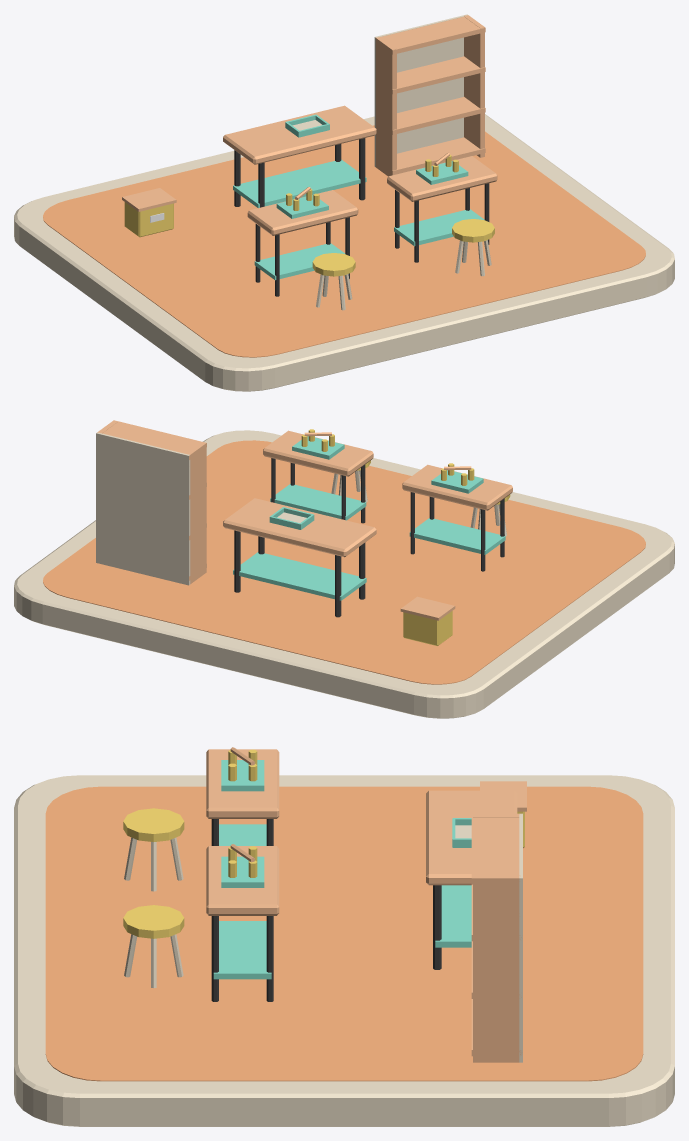
The picture shows the model from 3 angles, top to bottom: view 1: azimuth 30°, elevation 25°; view 2: azimuth 150°, elevation 25°; view 3: azimuth 270°, elevation 25°; orthographic projection. The views are drawn at different scales.
Visible parts, largest first — view 1: COM-02 Floor Surface, COM-01 Rounded Base Direct, Back, Worktop.002, Lower shelf.002, Side, Worktop, Worktop.001, Side.001, Shelf.003, Shelf.002, Shelf.001 (+9 smaller); view 2: COM-02 Floor Surface, COM-01 Rounded Base Direct, Back, Worktop.002, Lower shelf.002, Worktop, Worktop.001, Side, Lower shelf, Lower shelf.001, Shelf.003, Box (+3 smaller); view 3: COM-02 Floor Surface, COM-01 Rounded Base Direct, Side.001, Worktop.002, Worktop, Worktop.001, Shelf.003, Lower shelf.001, Lower shelf.002, Seat.001, Seat, Assembly board (+7 smaller).
Part boxes in pixels (bbox=[...]): COM-02 Floor Surface: bbox=[43, 125, 645, 357]; COM-01 Rounded Base Direct: bbox=[14, 114, 674, 391]; Back: bbox=[374, 14, 468, 167]; Worktop.002: bbox=[223, 105, 376, 164]; Lower shelf.002: bbox=[233, 159, 366, 207]; Side: bbox=[375, 37, 396, 176]; Worktop: bbox=[247, 190, 358, 235]; Worktop.001: bbox=[387, 156, 497, 201]; Side.001: bbox=[464, 15, 484, 157]; Shelf.003: bbox=[376, 16, 485, 54]; Shelf.002: bbox=[376, 56, 485, 94]; Shelf.001: bbox=[376, 97, 485, 134]; COM-02 Floor Surface: bbox=[43, 440, 645, 684]; COM-01 Rounded Base Direct: bbox=[14, 430, 674, 718]; Back: bbox=[96, 432, 190, 585]; Worktop.002: bbox=[223, 498, 376, 557]; Lower shelf.002: bbox=[233, 552, 366, 600]; Worktop: bbox=[402, 464, 512, 510]; Worktop.001: bbox=[263, 430, 373, 476]; Side: bbox=[186, 442, 206, 583]; Lower shelf: bbox=[409, 518, 505, 554]; Lower shelf.001: bbox=[270, 484, 366, 520]; Shelf.003: bbox=[102, 420, 206, 459]; Box: bbox=[403, 611, 452, 645]; COM-02 Floor Surface: bbox=[45, 786, 643, 1081]; COM-01 Rounded Base Direct: bbox=[14, 775, 674, 1126]; Side.001: bbox=[473, 875, 520, 1062]; Worktop.002: bbox=[426, 790, 517, 885]; Worktop: bbox=[206, 749, 279, 818]; Worktop.001: bbox=[206, 846, 279, 915]; Shelf.003: bbox=[471, 814, 519, 884]; Lower shelf.001: bbox=[213, 921, 271, 979]; Lower shelf.002: bbox=[435, 885, 471, 947]; Seat.001: bbox=[123, 905, 184, 938]; Seat: bbox=[123, 808, 184, 841]; Assembly board: bbox=[221, 760, 264, 791].
Bounding box in the file's own units: 6 × 1.9 × 5.2.
Materials: 1 (1 with a texture image).
